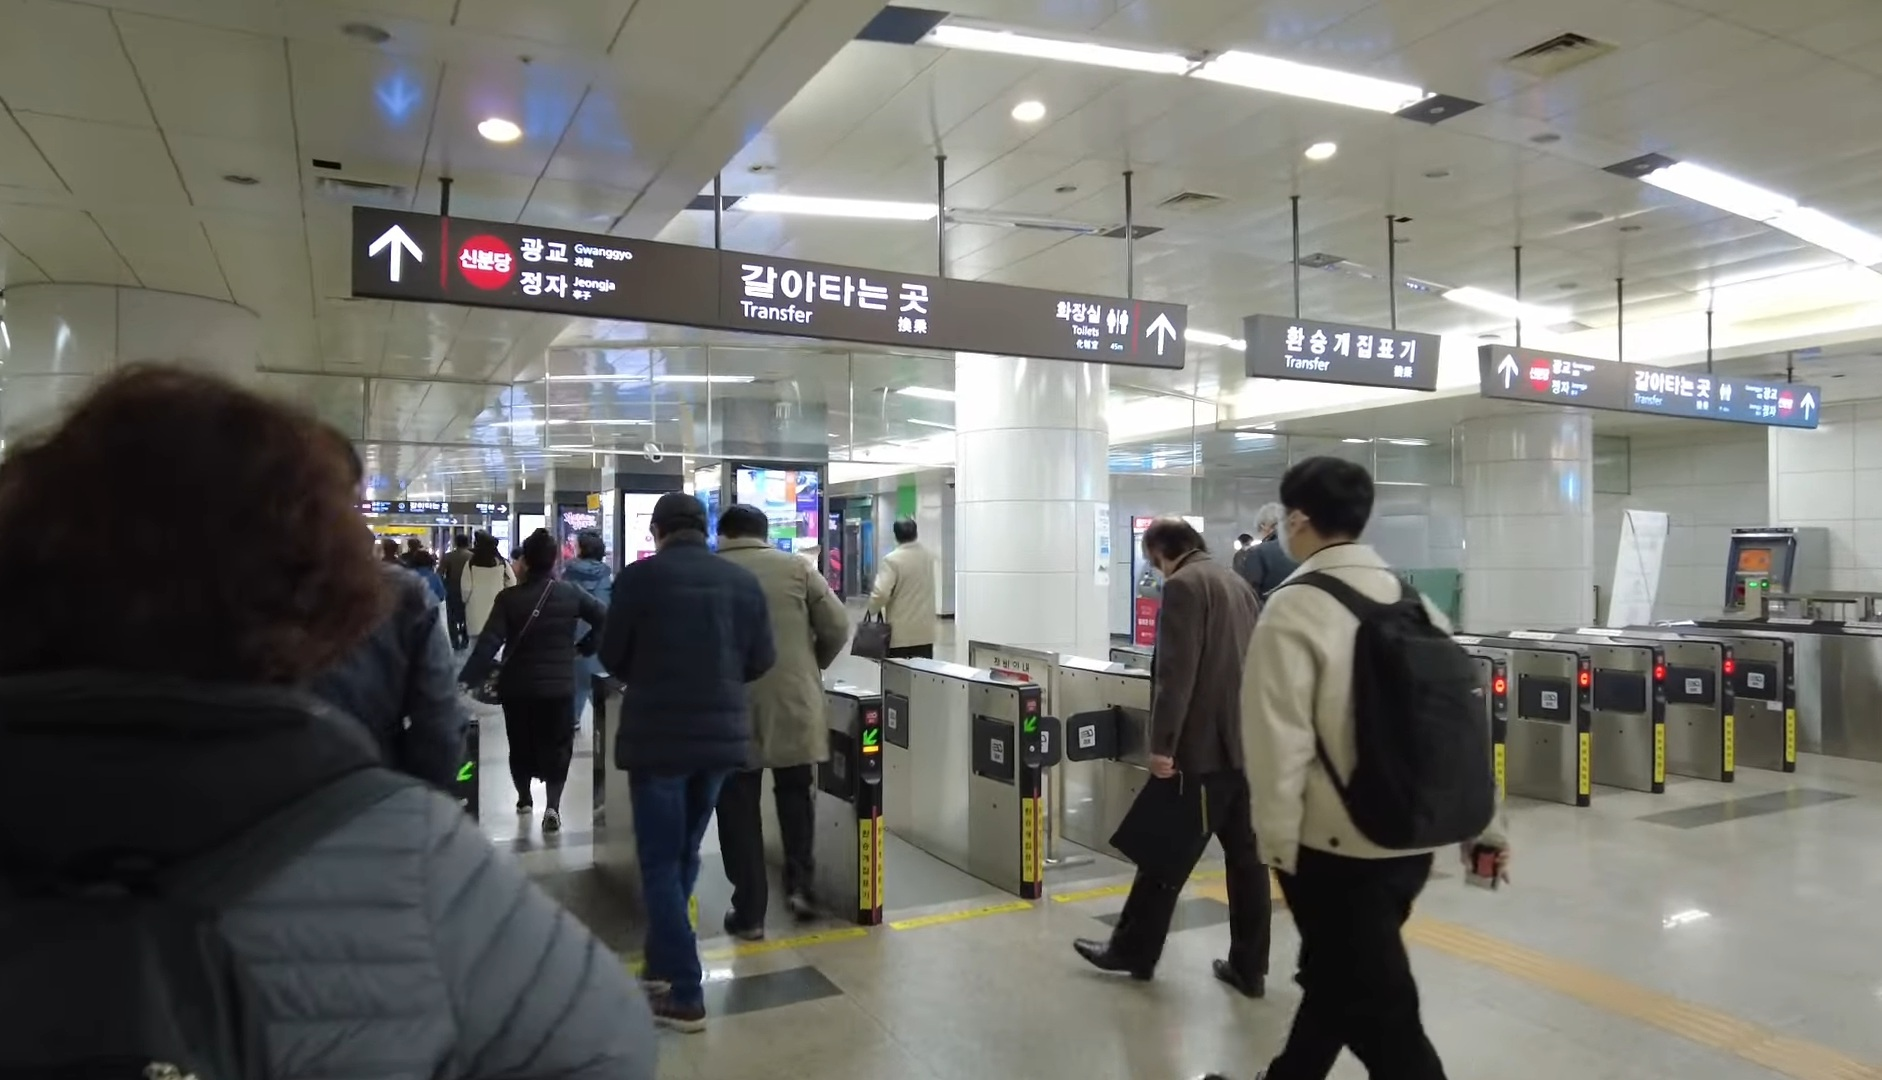signBoard: (343, 196, 1196, 380)
